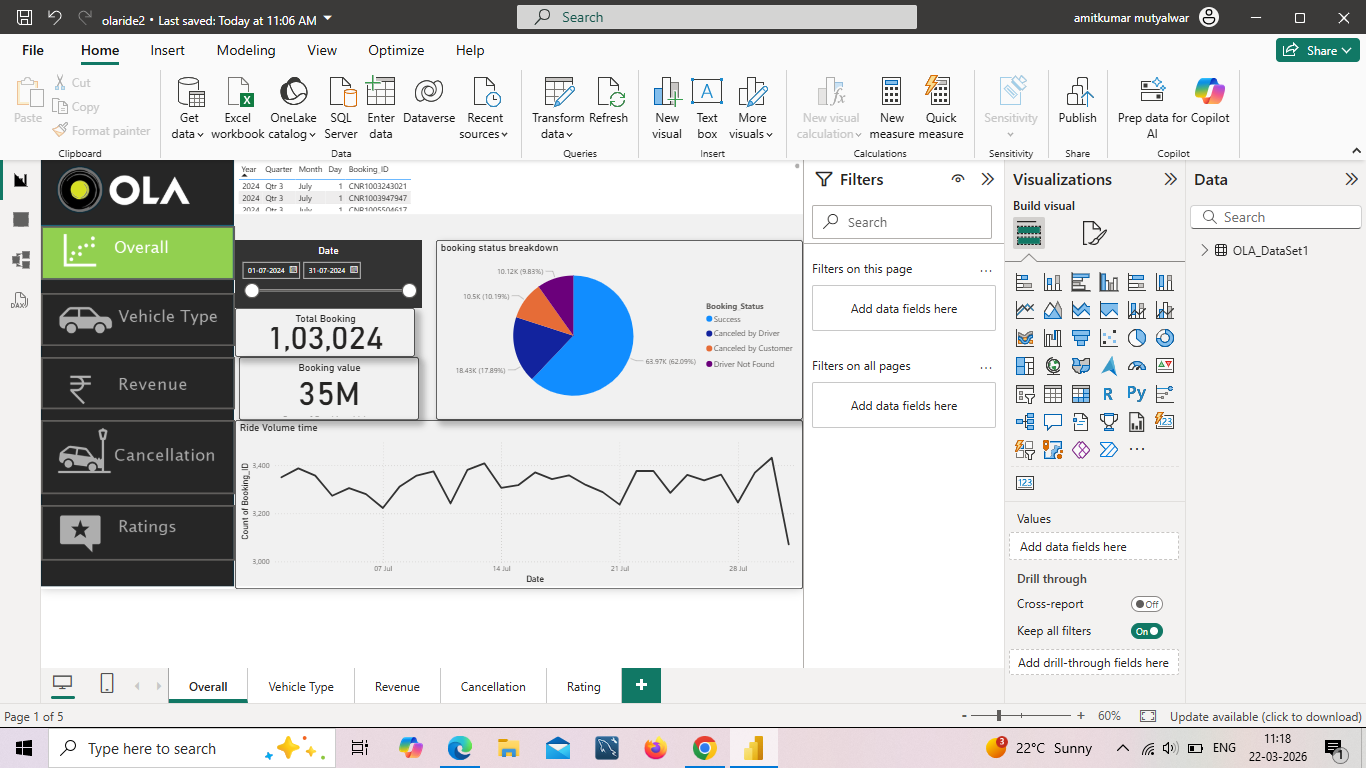

The page's visual inventory and layout, read from the dashboard file:
{"tool":"powerbi","page":{"name":"Overall","canvas":[1280,720],"ordinal":0},"visuals":[{"type":"actionButton","box":[0,223.9,326,89.3],"z":0},{"type":"actionButton","box":[0,331.7,326,87.9],"z":1000},{"type":"actionButton","box":[0,436.5,326,124.7],"z":2000},{"type":"actionButton","box":[0,579.7,326,93.5],"z":3000},{"type":"actionButton","box":[0,110.6,326,90.7],"z":4000},{"type":"pieChart","title":"booking status breakdown","fields":{"Category":["OLA_DataSet1.Booking_Status"],"Y":["CountNonNull(OLA_DataSet1.Booking_ID)"],"Series":["OLA_DataSet1.Booking_Status"]},"box":[663.5,134.4,616.5,302.4],"z":5000},{"type":"lineChart","title":"Ride Volume time","fields":{"Y":["CountNonNull(OLA_DataSet1.Booking_ID)"],"Category":["OLA_DataSet1.Date"]},"box":[325.9,436.7,954.1,283.9],"z":7000},{"type":"slicer","title":"Date","fields":{"Values":["OLA_DataSet1.Date"]},"box":[325.9,134.4,314.1,114.2],"z":8000},{"type":"card","title":"Total Booking","fields":{"Values":["CountNonNull(OLA_DataSet1.Booking_ID)"]},"box":[325.9,248.6,302.4,82.3],"z":9000},{"type":"card","title":"Booking value","fields":{"Values":["Sum(OLA_DataSet1.Booking_Value)"]},"box":[332.6,330.9,302.4,105.8],"z":10000}]}

Visuals, with their boxes on the page's 1280x720 design canvas (x1, y1, x2, y2). These are canvas units, not pixel positions in the 1366x768 screenshot, which may show the page scaled, cropped or inside an application window:
actionButton: [0,224,326,313]
actionButton: [0,332,326,420]
actionButton: [0,436,326,561]
actionButton: [0,580,326,673]
actionButton: [0,111,326,201]
"booking status breakdown" pieChart: [664,134,1280,437]
"Ride Volume time" lineChart: [326,437,1280,721]
"Date" slicer: [326,134,640,249]
"Total Booking" card: [326,249,628,331]
"Booking value" card: [333,331,635,437]
